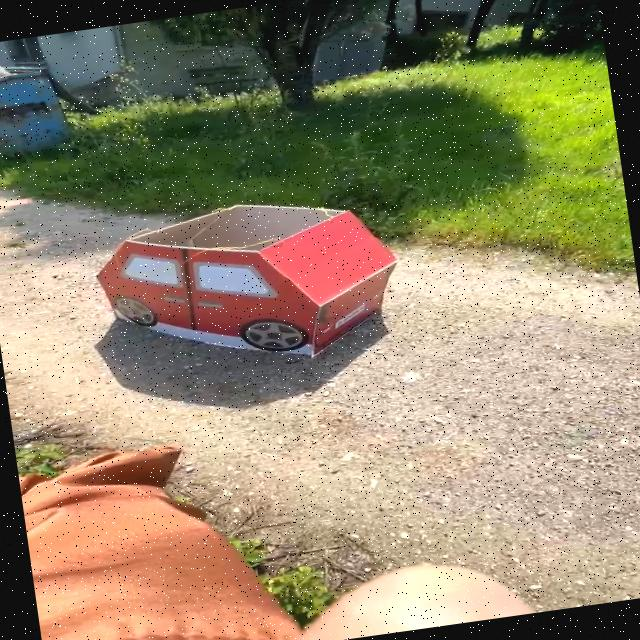red_car: (70, 162, 442, 401)
